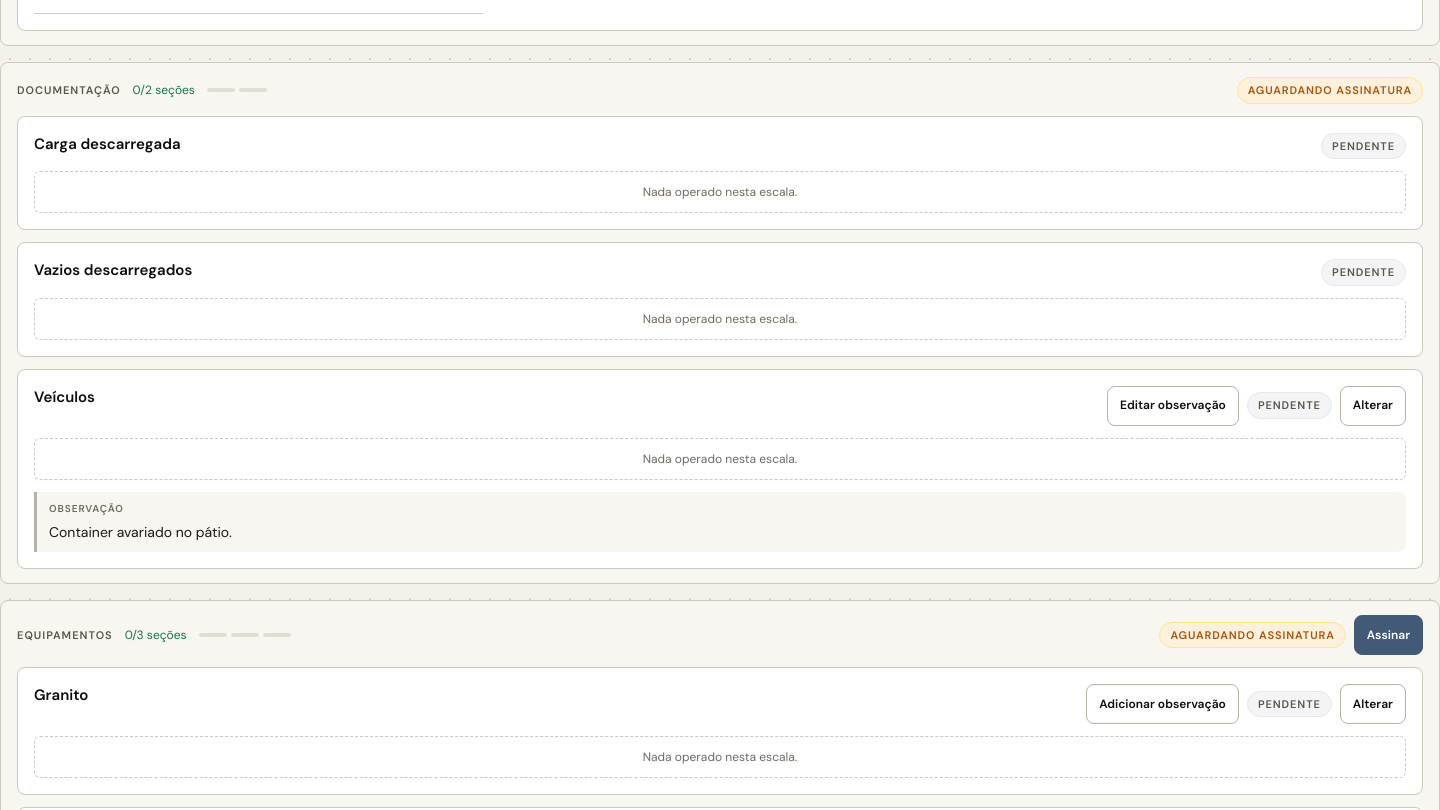
Test: mostra o campo de Observação em cada seção, editável só pelo dono
(page scrolled)
// Dono da seção (Equipamentos → veículos): campo editável, valor preenchido.
Click the button "Editar observação" at (1173, 406), box [1107,386,1239,426]
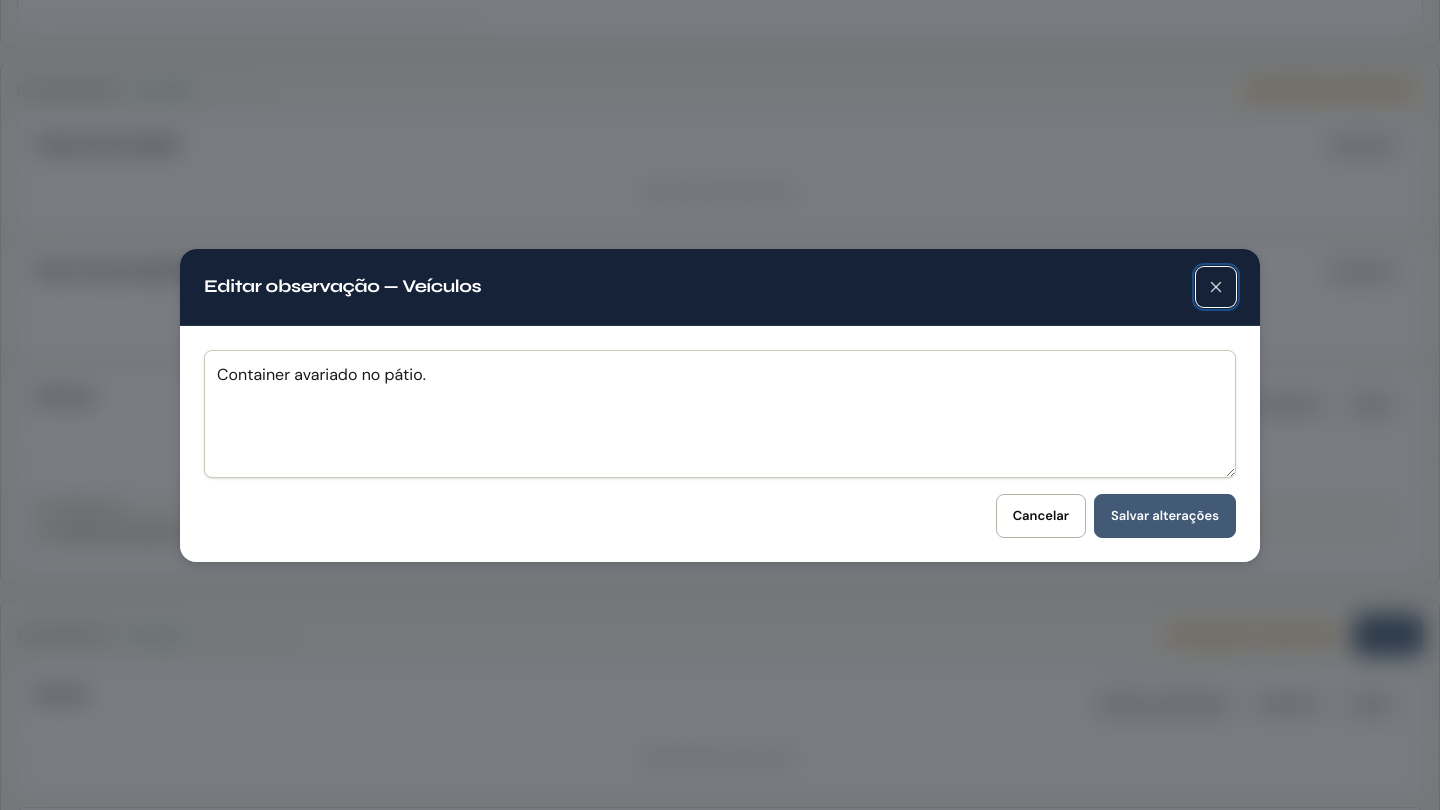
Expected: the text box named "Observação — Veículos" holds "Container avariado no pátio.", [204,350,1236,478]
